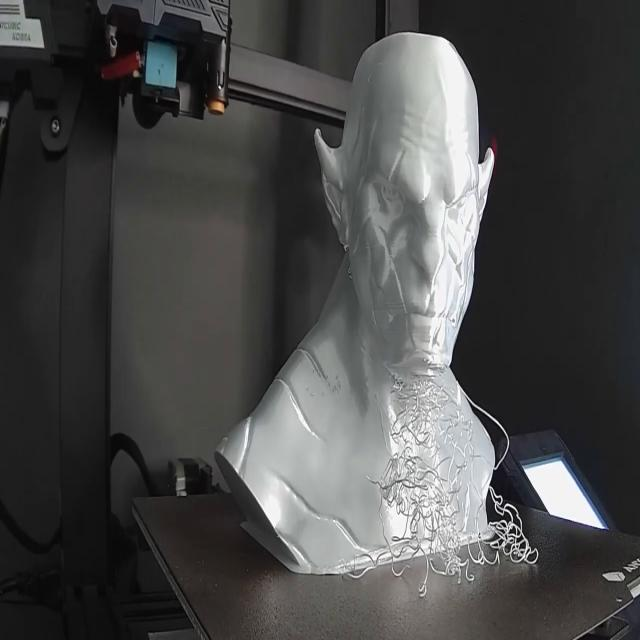spaghetti: (340, 372, 554, 596)
